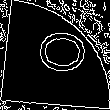O_W: (25, 30, 85, 80)
